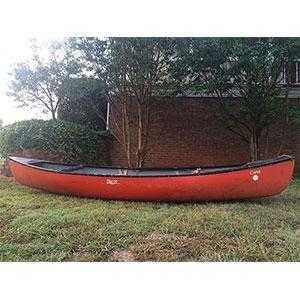kayak: (1, 39, 300, 204), (3, 154, 299, 203)
